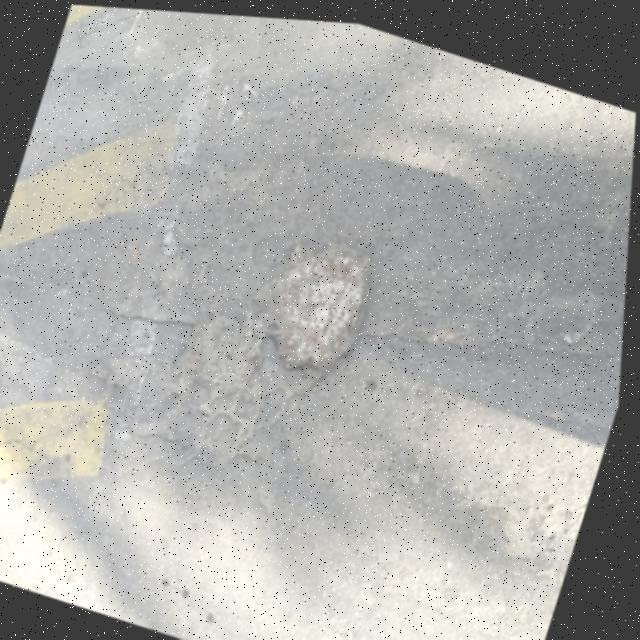pothole: (242, 212, 392, 386)
